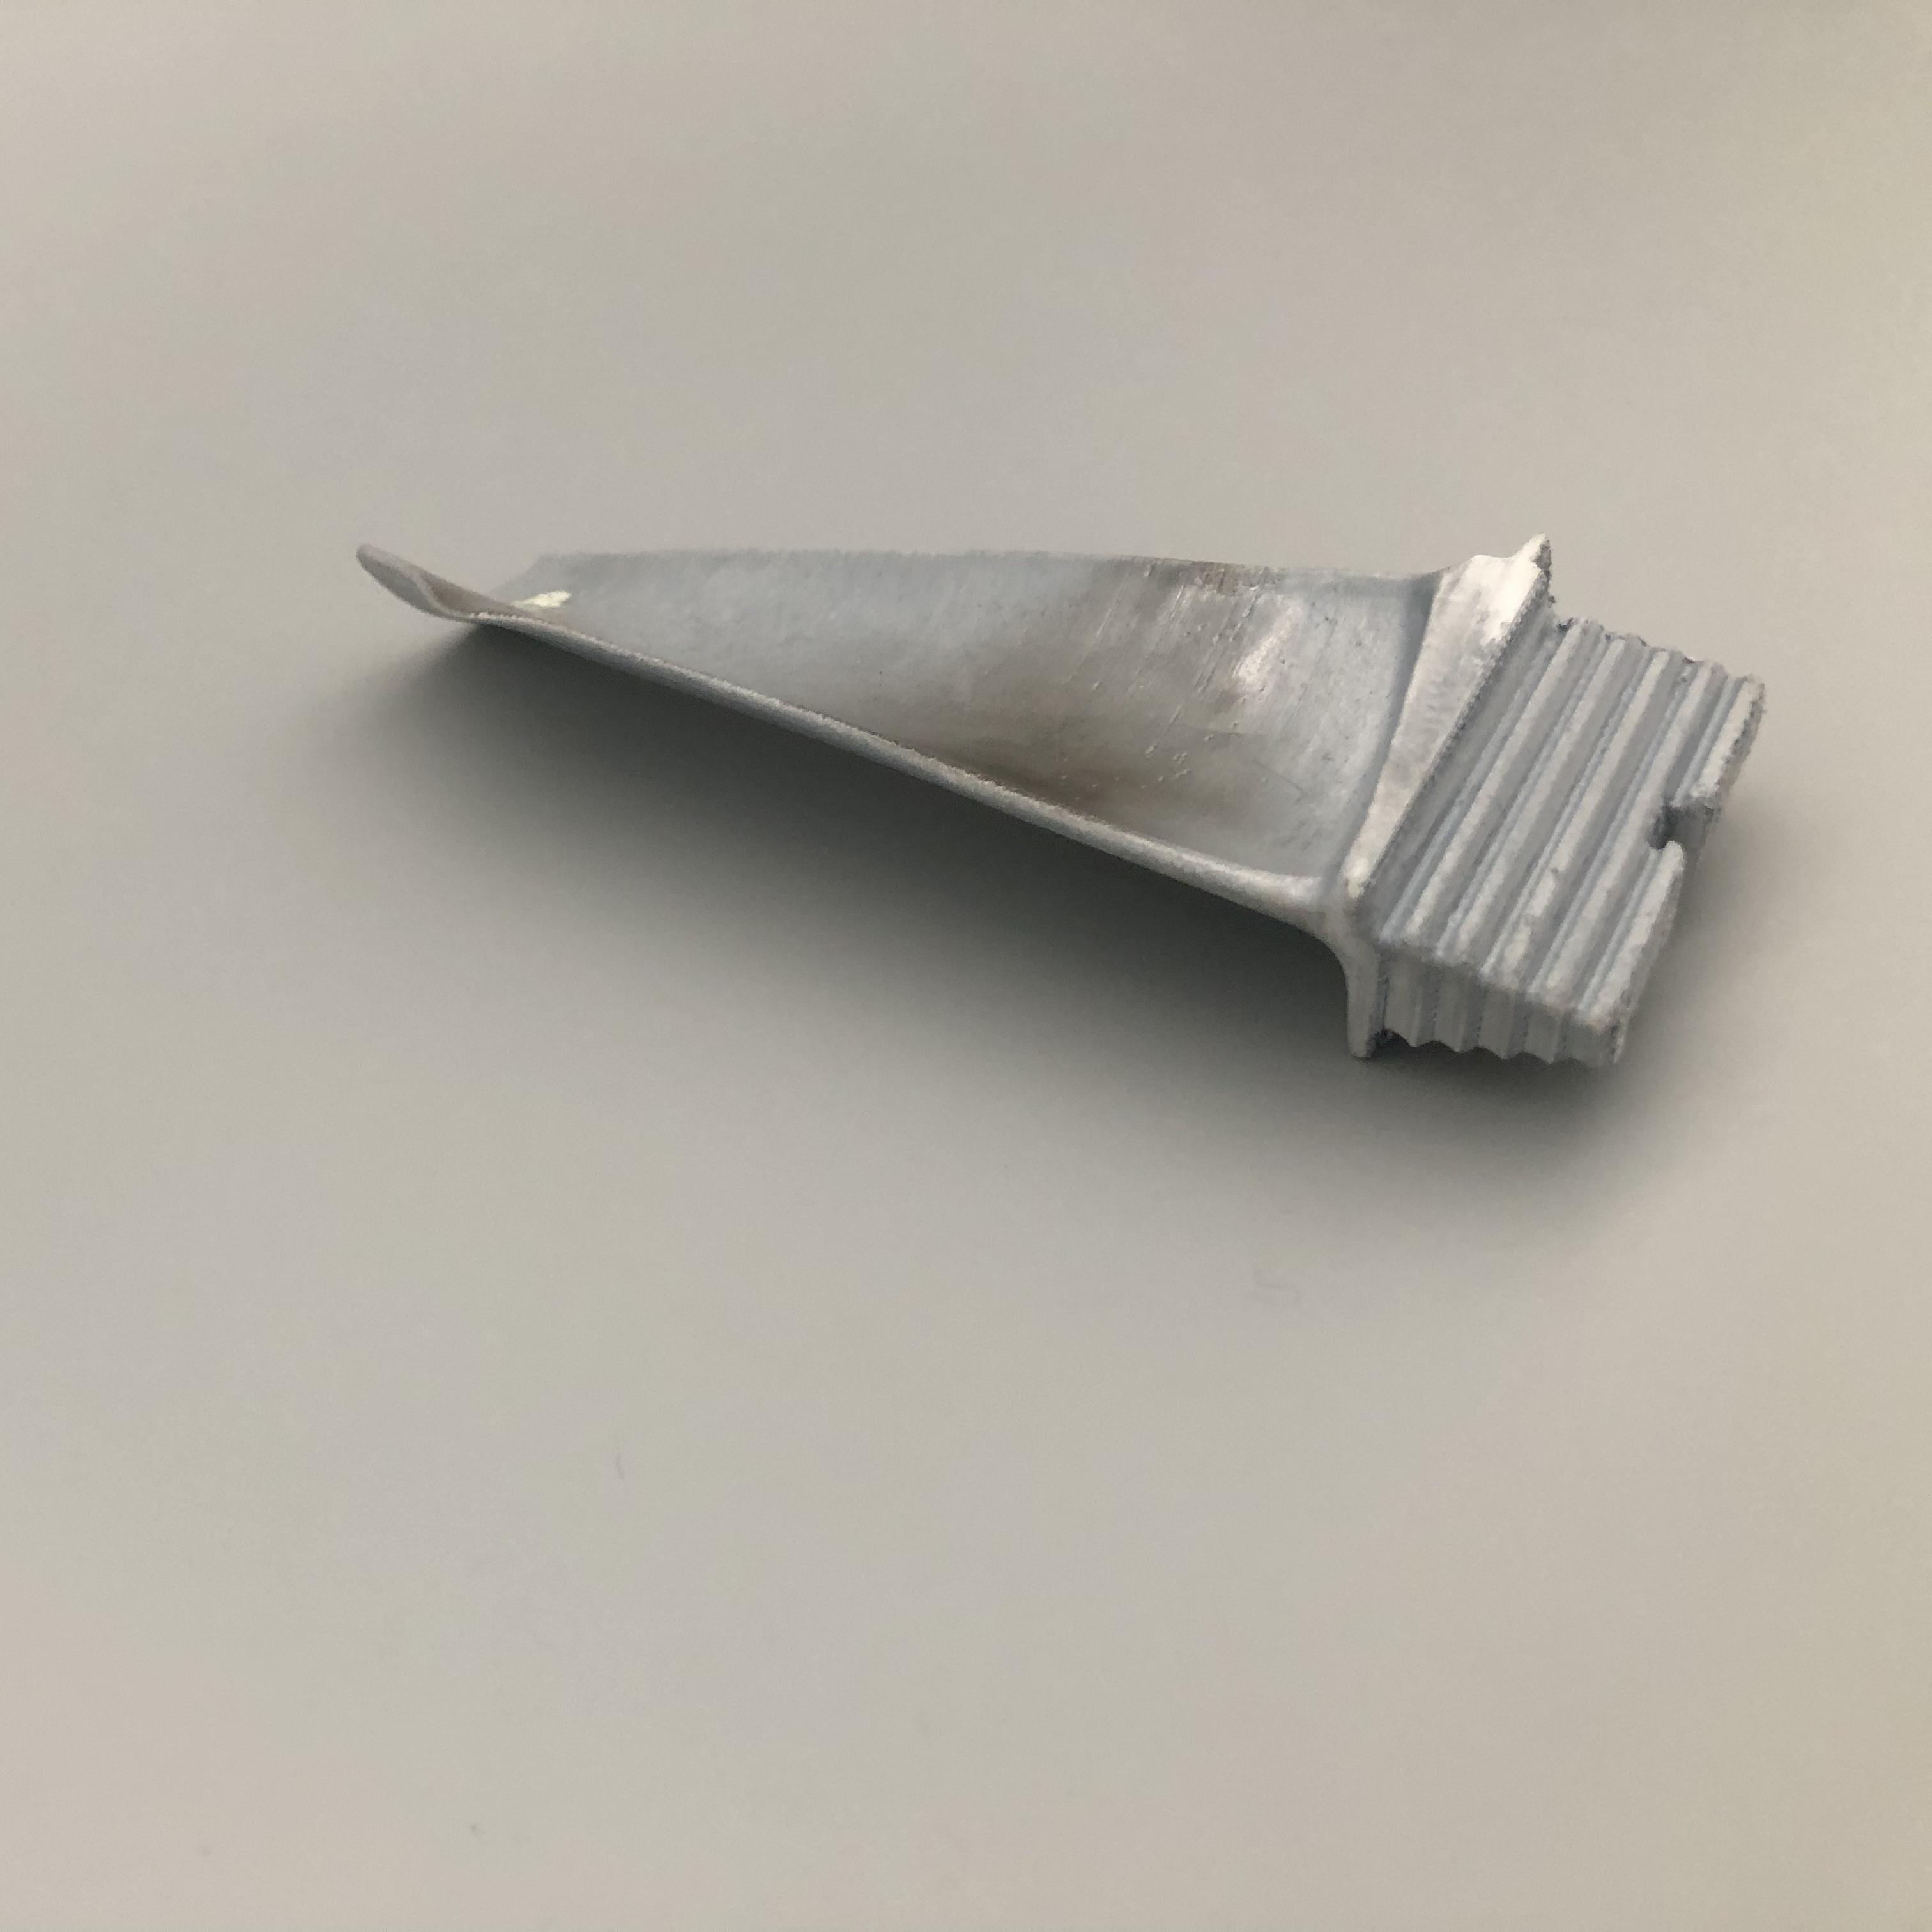ablation: (927, 656, 1187, 816)
